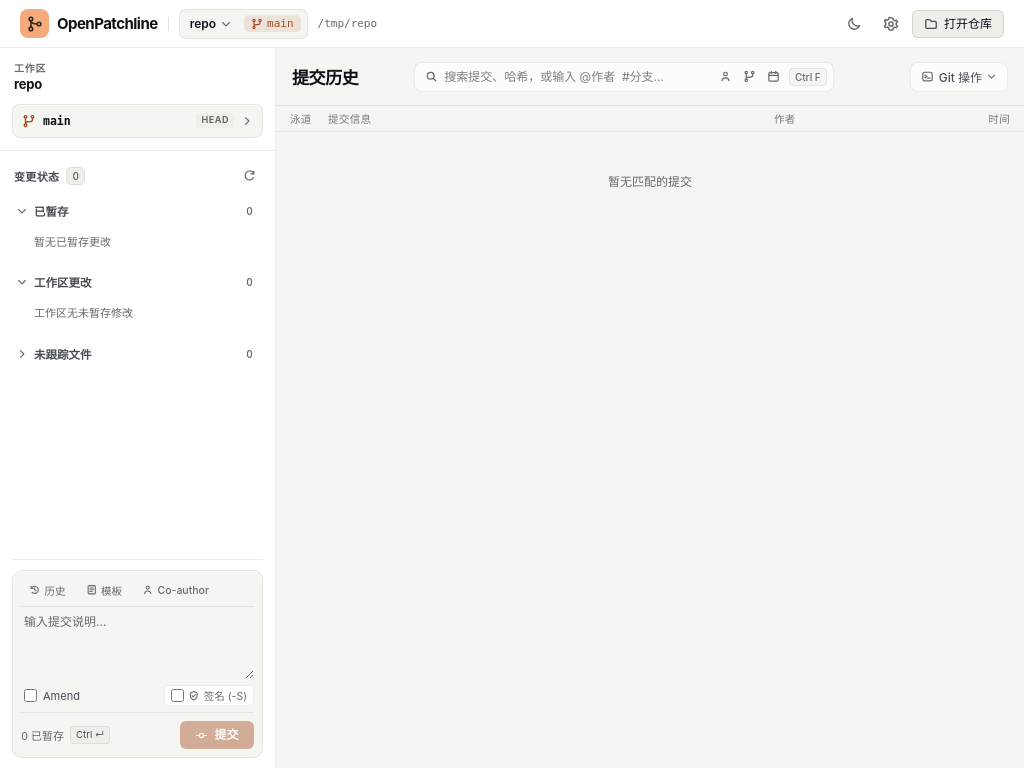
App 骨架（v0.8 / 8.2） › shows repo switcher popover listing recent repos
Click the button "repo" at (211, 24), box top-left (184, 12), bottom-right (238, 34)
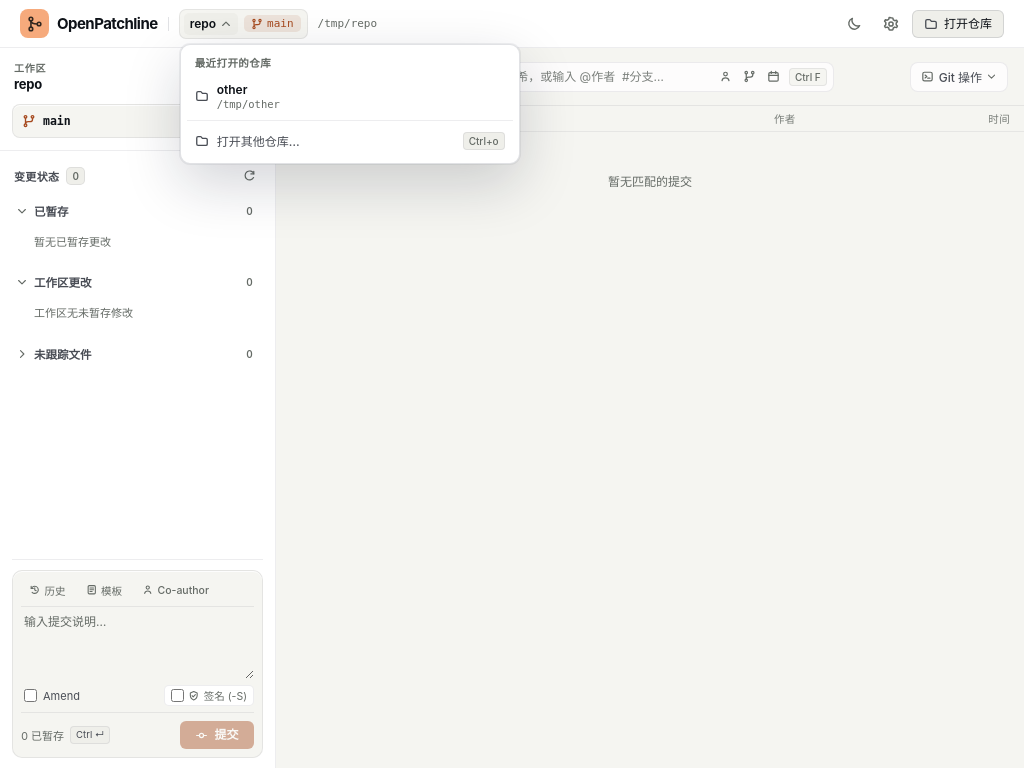
Check: the text "最近打开的仓库" is shown, box top-left (195, 56), bottom-right (271, 70)
Check: the text "/tmp/other" is shown, box top-left (217, 98), bottom-right (280, 110)
